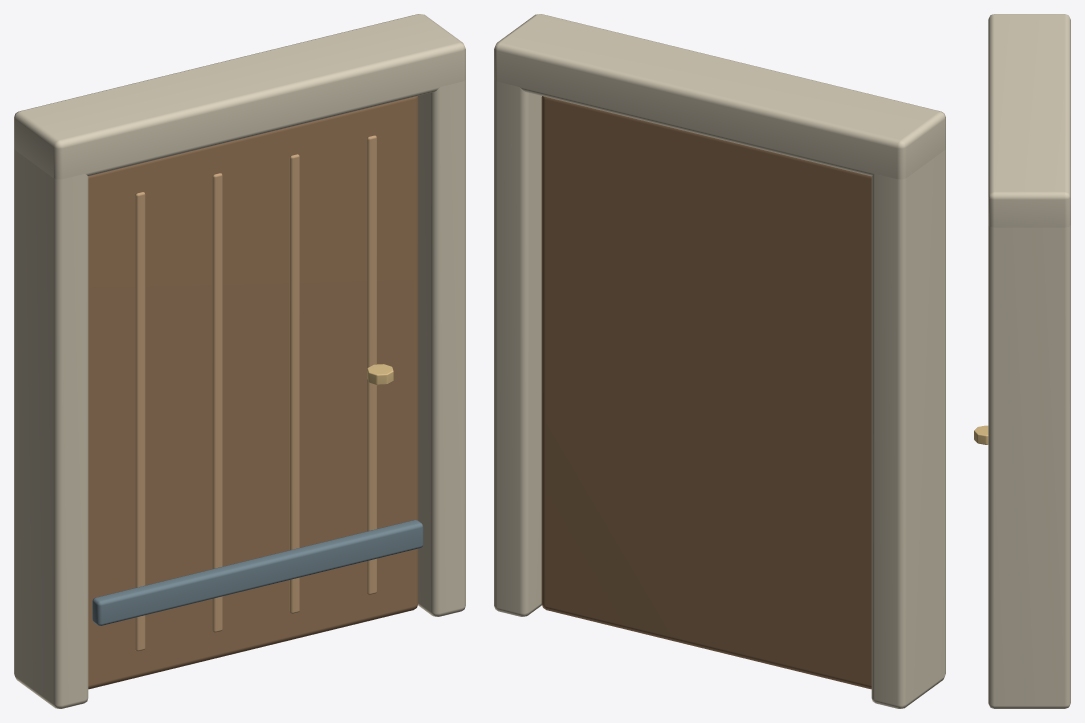
The model's file is SM_Door_Wood_2x3.fbx.
The picture shows the model from 3 angles, left to right: view 1: azimuth 30°, elevation 25°; view 2: azimuth 150°, elevation 25°; view 3: azimuth 270°, elevation 25°; orthographic projection. The views are drawn at different scales.
Visible parts, largest first — view 1: SM_Door_Wood_2x3; view 2: SM_Door_Wood_2x3; view 3: SM_Door_Wood_2x3.
Boxes of the visible parts, bbox=[...] form: SM_Door_Wood_2x3: bbox=[14, 14, 465, 708]; SM_Door_Wood_2x3: bbox=[494, 14, 945, 708]; SM_Door_Wood_2x3: bbox=[974, 14, 1070, 708].
Bounding box in the file's own units: 2.4 × 3.17 × 0.5387.
